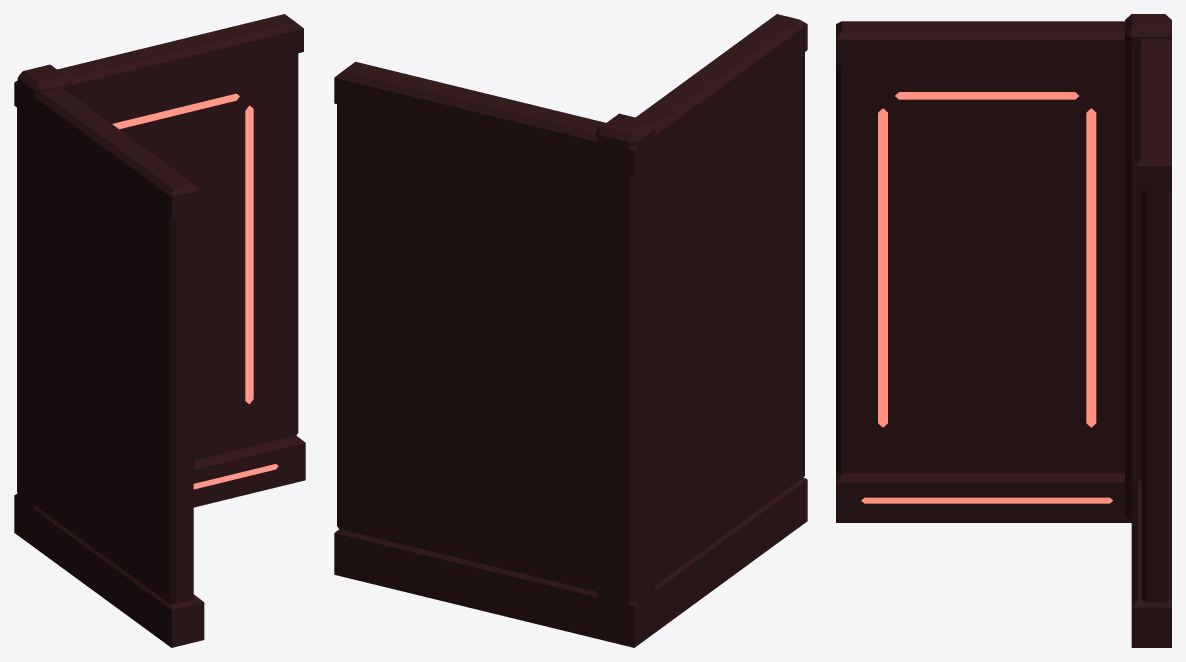
Rendered from corner_nightmare.glb.
3 views of the same model, side by side, from view 1: azimuth 30°, elevation 25°; view 2: azimuth 150°, elevation 25°; view 3: azimuth 270°, elevation 25° (orthographic). The views are drawn at different scales.
Visible parts, largest first — view 1: Mesh; view 2: Mesh; view 3: Mesh.
Part boxes in pixels (<box>): Mesh: <box>14,14,305,647</box>; Mesh: <box>334,14,807,647</box>; Mesh: <box>836,14,1171,647</box>.
Size of the model in its own units: 2 by 3.25 by 2.
